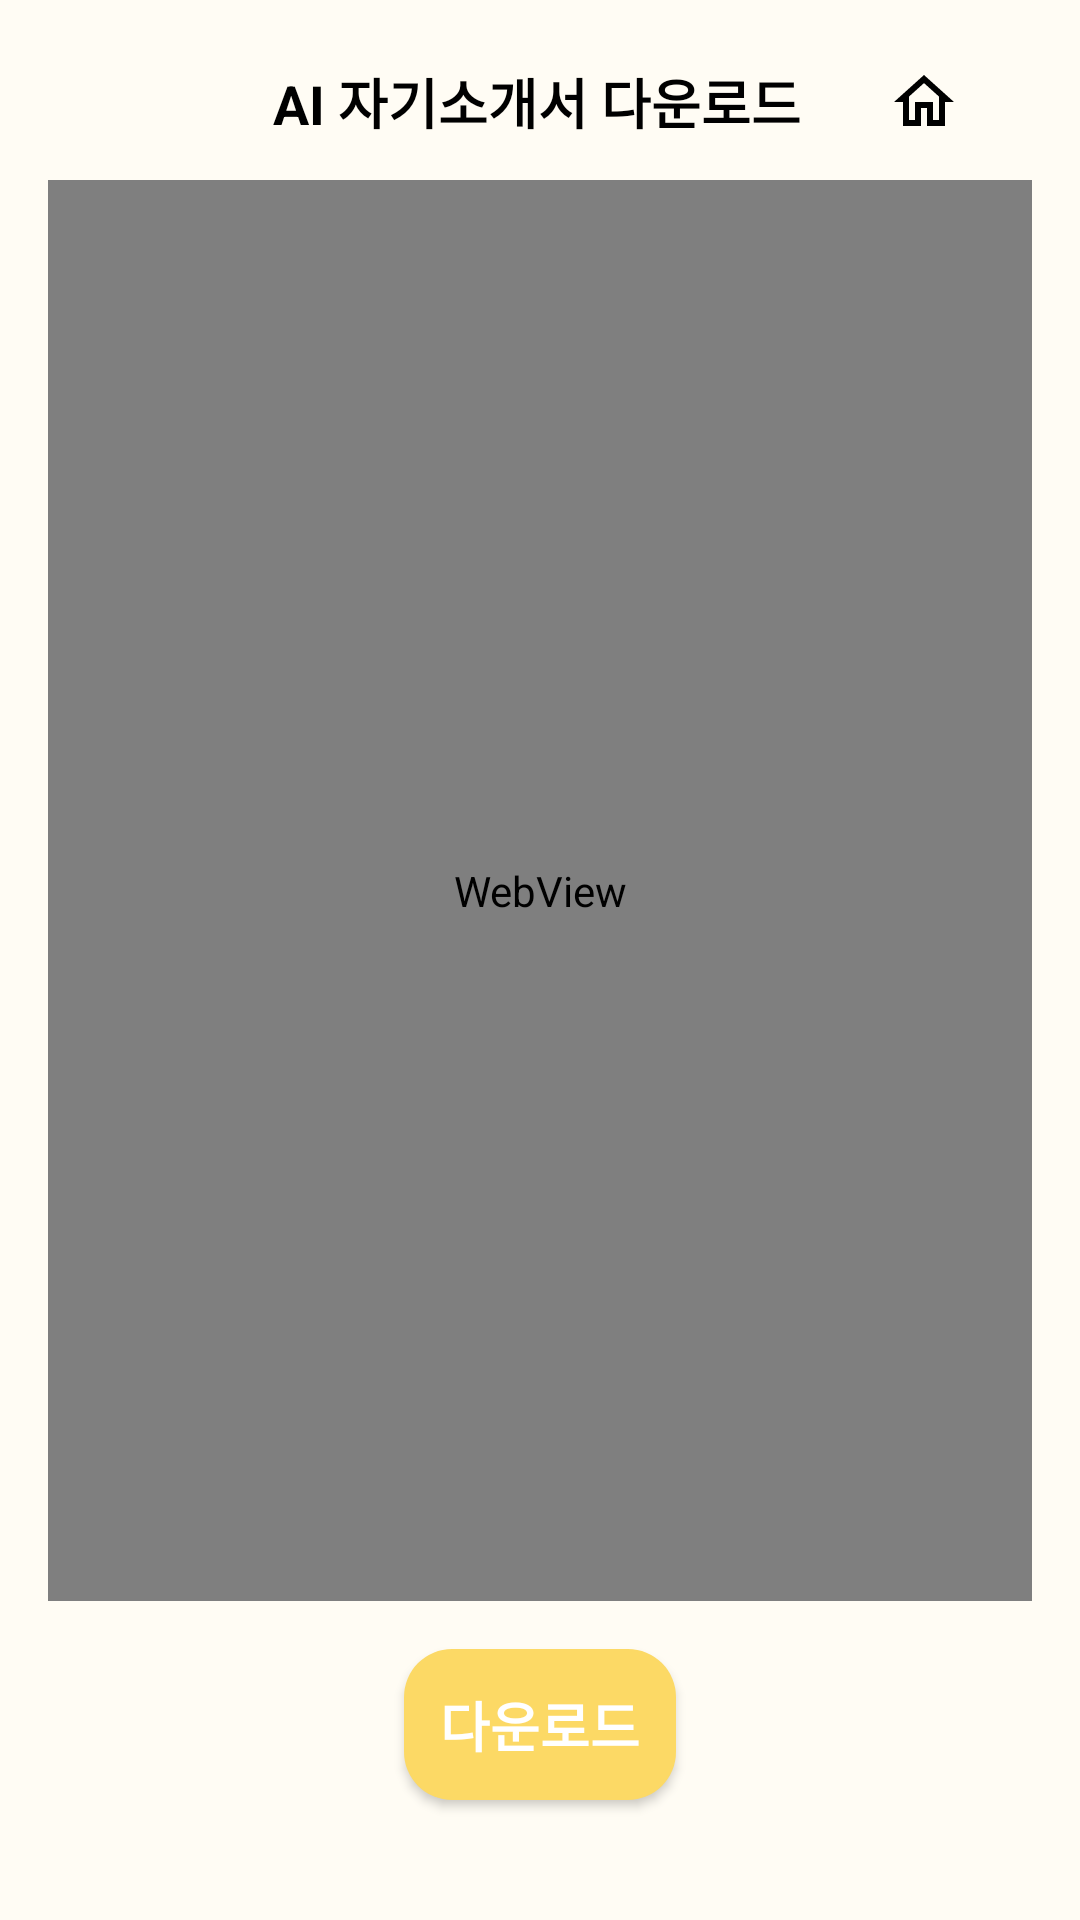

Icons on this 1080 × 1920 Android screen, each with its box as box(x1, y1, x2, y2):
home: box(894, 75, 954, 126)
